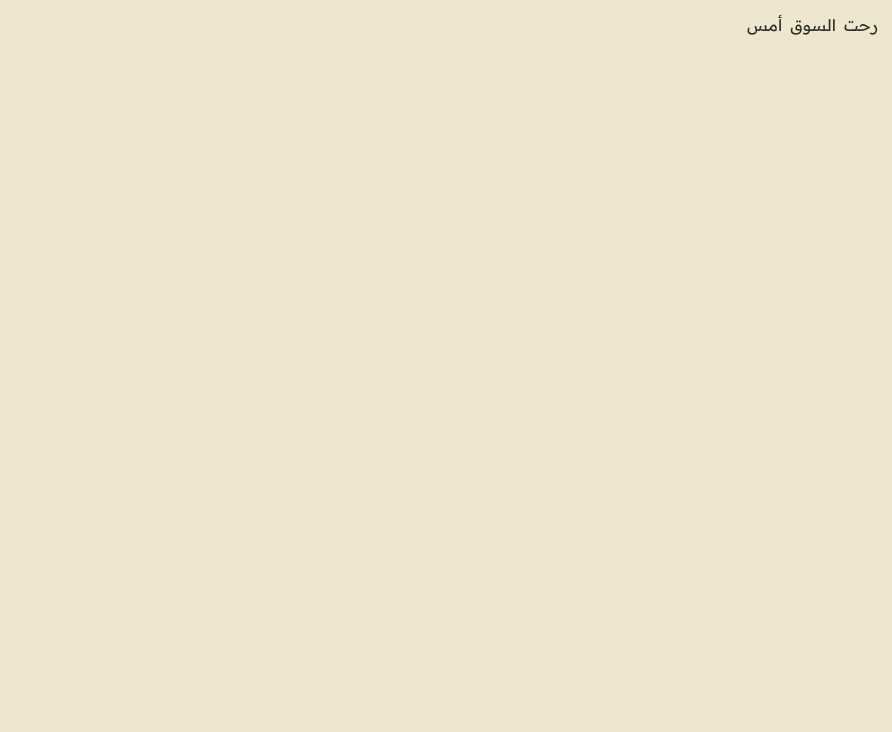
selecting a phrase › takes the whole span between the two ends
Press the mouse on the button with aria-label "Look up “رحت”": (861, 26) 842,12 -> 880,39
Wait 500 ms
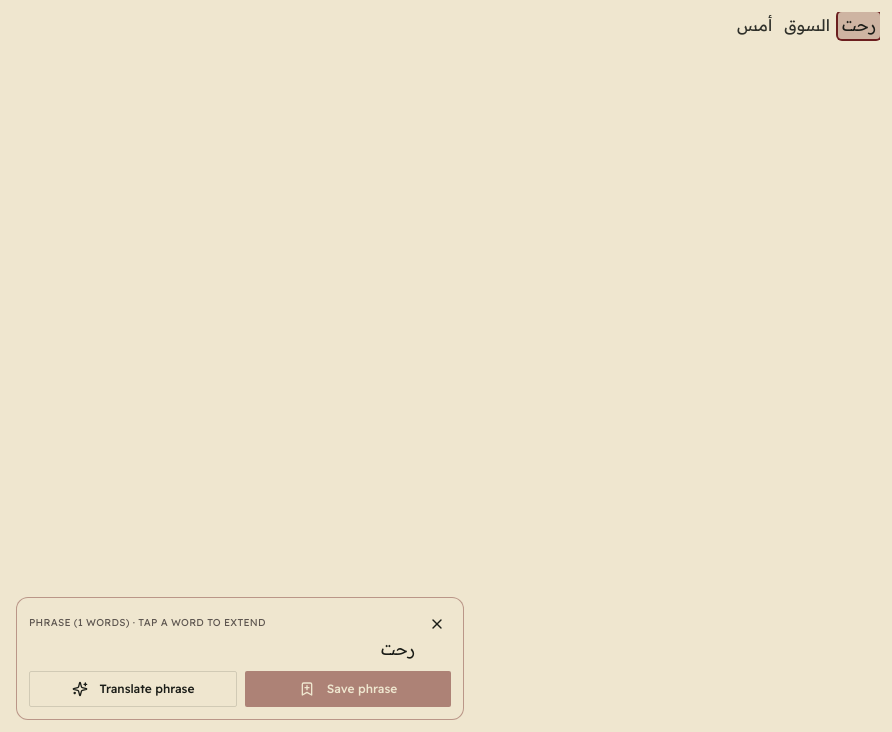
Click the button with aria-label "Extend phrase selection to “أمس”": (755, 25) 737,15 -> 772,35
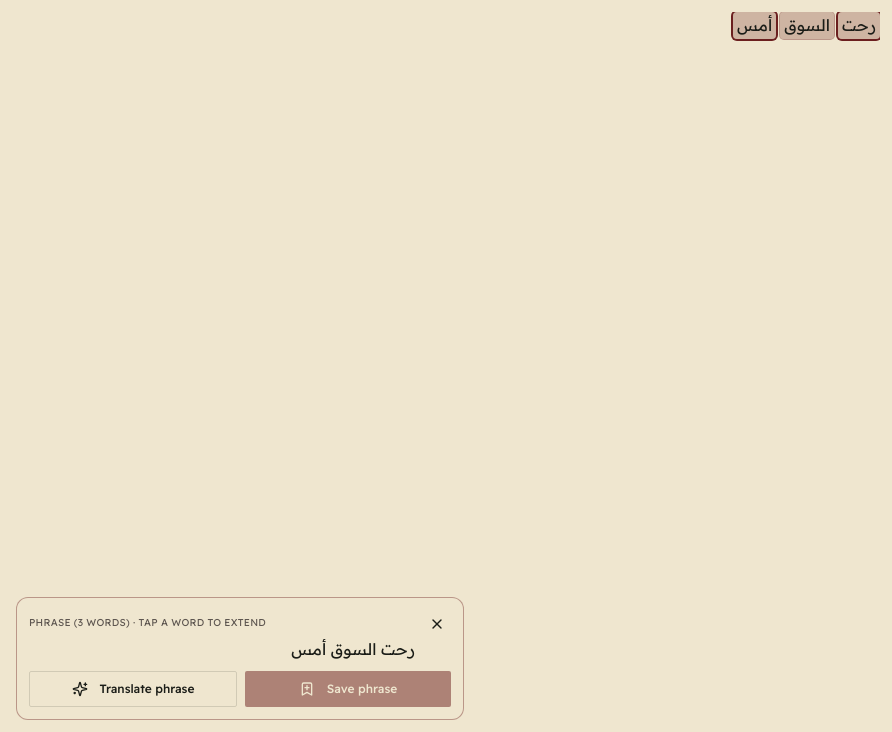
expect the text "رحت السوق أمس" is shown: met, box 291,639 -> 415,659
